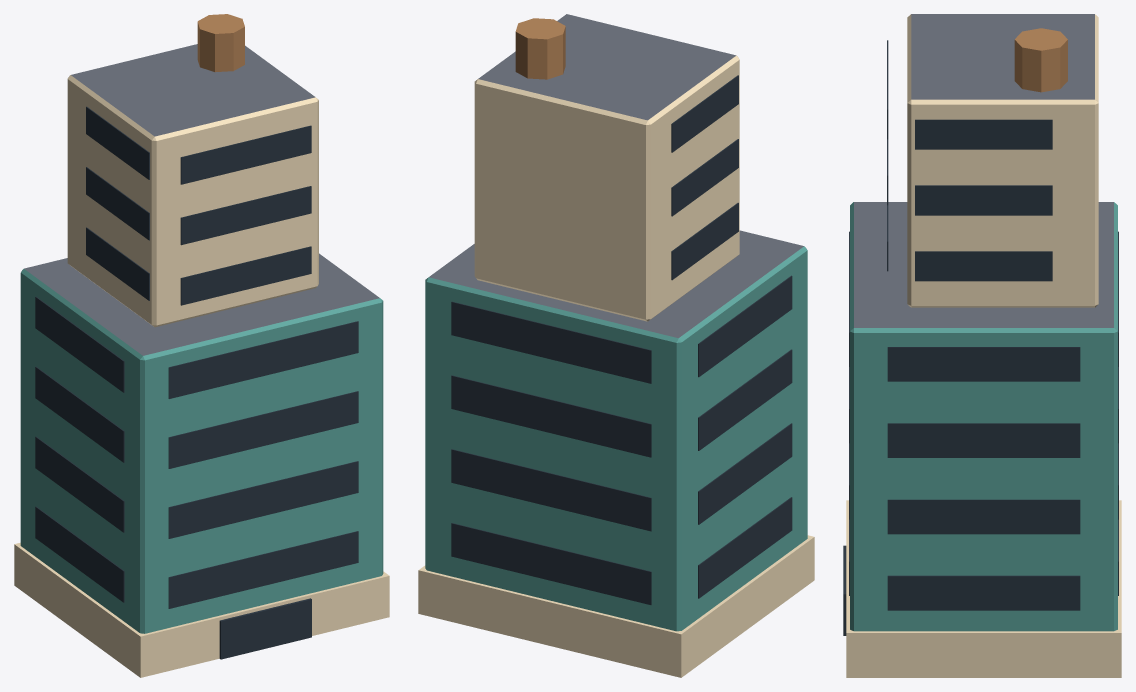
File: d_office_b.fbx
3 views of the same model, side by side, from view 1: azimuth 30°, elevation 25°; view 2: azimuth 150°, elevation 25°; view 3: azimuth 270°, elevation 25° (orthographic). The views are drawn at different scales.
Visible parts, largest first — view 1: d_office_b; view 2: d_office_b; view 3: d_office_b.
Boxes of the visible parts, box(x1,y1,x2,y2) form: d_office_b: box(14, 14, 389, 677); d_office_b: box(418, 14, 814, 677); d_office_b: box(843, 14, 1121, 677).
Bounding box in the file's own units: 16.4 × 34.4 × 14.55.
